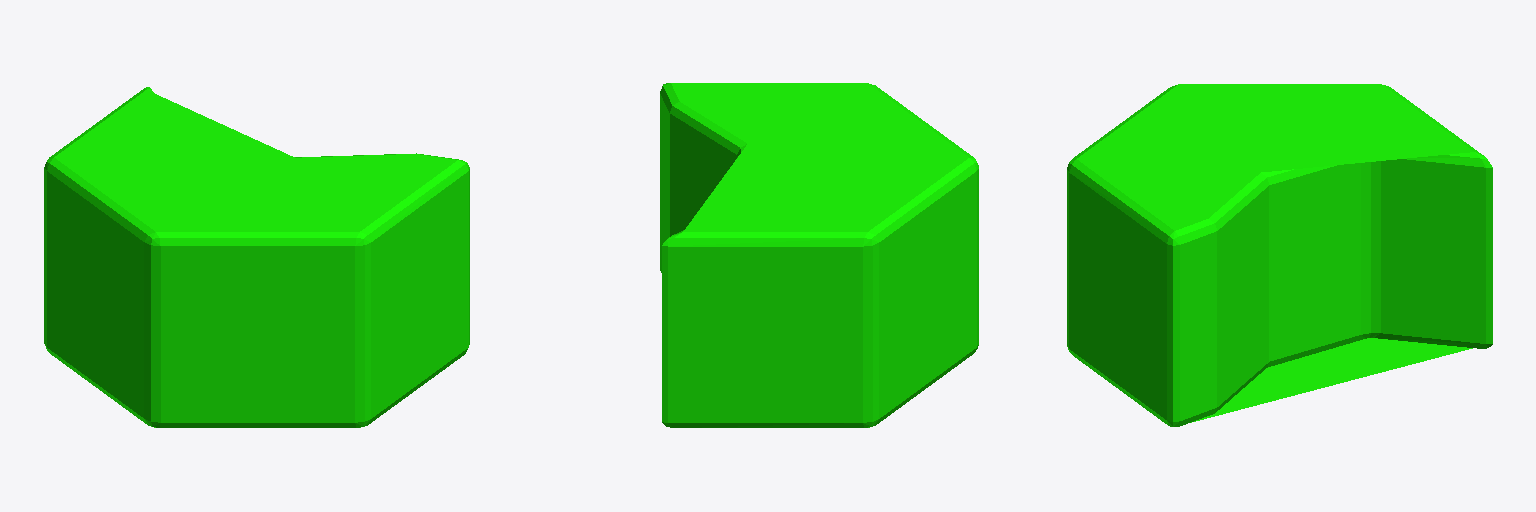
File: grass_border1.obj
The picture shows the model from 3 angles: view 1: azimuth 30°, elevation 25°; view 2: azimuth 150°, elevation 25°; view 3: azimuth 270°, elevation 25°; orthographic projection.
Parts seen in each view (by area): view 1: grass_border1; view 2: grass_border1; view 3: grass_border1.
Boxes of the visible parts, x1,y1,x2,y2 form: grass_border1: [44, 87, 469, 427]; grass_border1: [660, 83, 978, 427]; grass_border1: [1067, 84, 1492, 426].
Size of the model in its own units: 6.84 by 4 by 7.88.